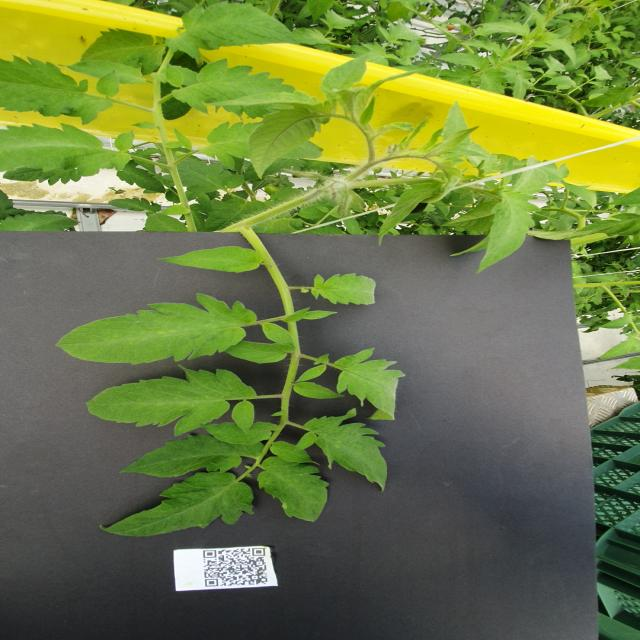Healthy Leaf: (58, 294, 258, 365), (87, 365, 259, 438), (98, 473, 256, 539), (1, 55, 120, 126), (296, 409, 390, 494), (168, 1, 302, 60), (1, 124, 136, 178), (173, 59, 297, 115), (120, 435, 266, 479), (476, 182, 543, 274), (334, 349, 409, 423), (249, 109, 317, 181), (259, 457, 331, 523), (160, 247, 263, 274), (312, 274, 378, 307), (66, 60, 146, 85), (198, 423, 280, 447), (223, 341, 296, 365), (271, 443, 322, 467), (438, 53, 491, 71), (294, 383, 346, 401), (263, 324, 295, 347), (295, 365, 328, 383), (284, 307, 311, 324), (301, 311, 340, 321)
